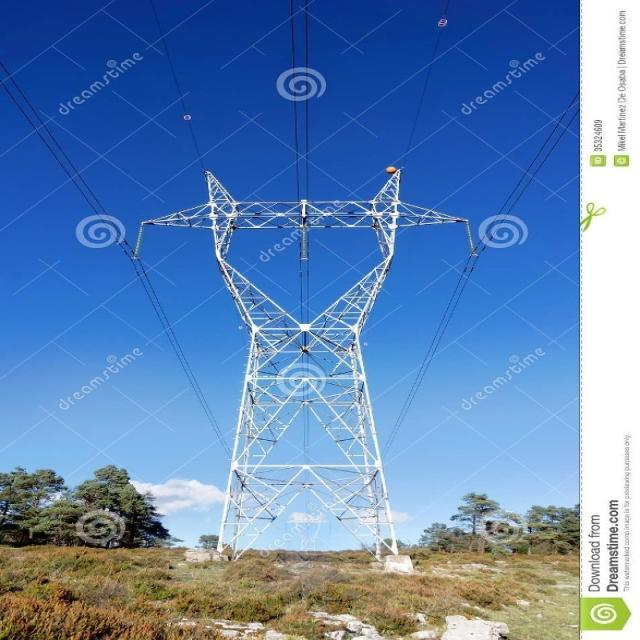non-critical vegetation: (128, 159, 468, 586)
